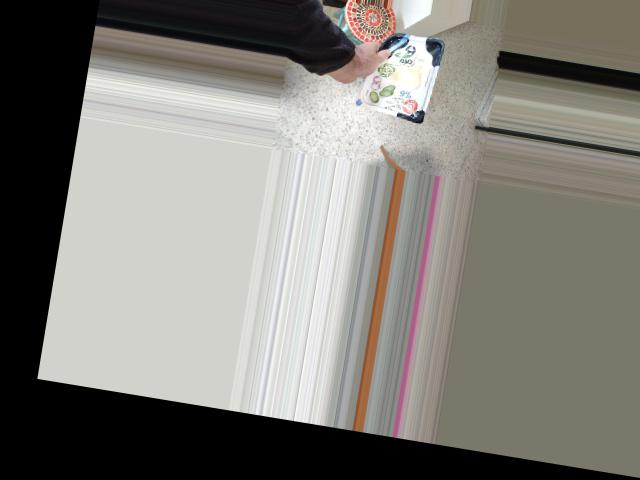cheese: (342, 37, 419, 120)
